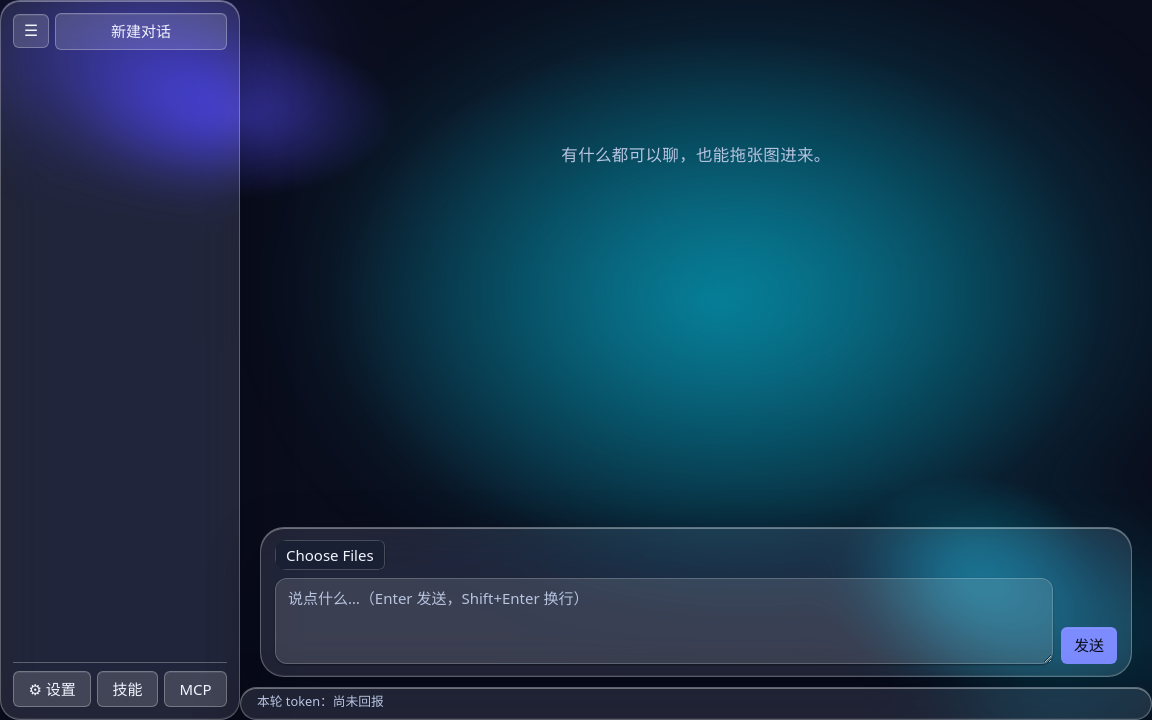
Test: App › prefills the composer when choosing a skill from the panel
The width and height of the screenshot is (1152, 720).
Click the button "技能".
click(128, 689)  # box [97,670,158,707]
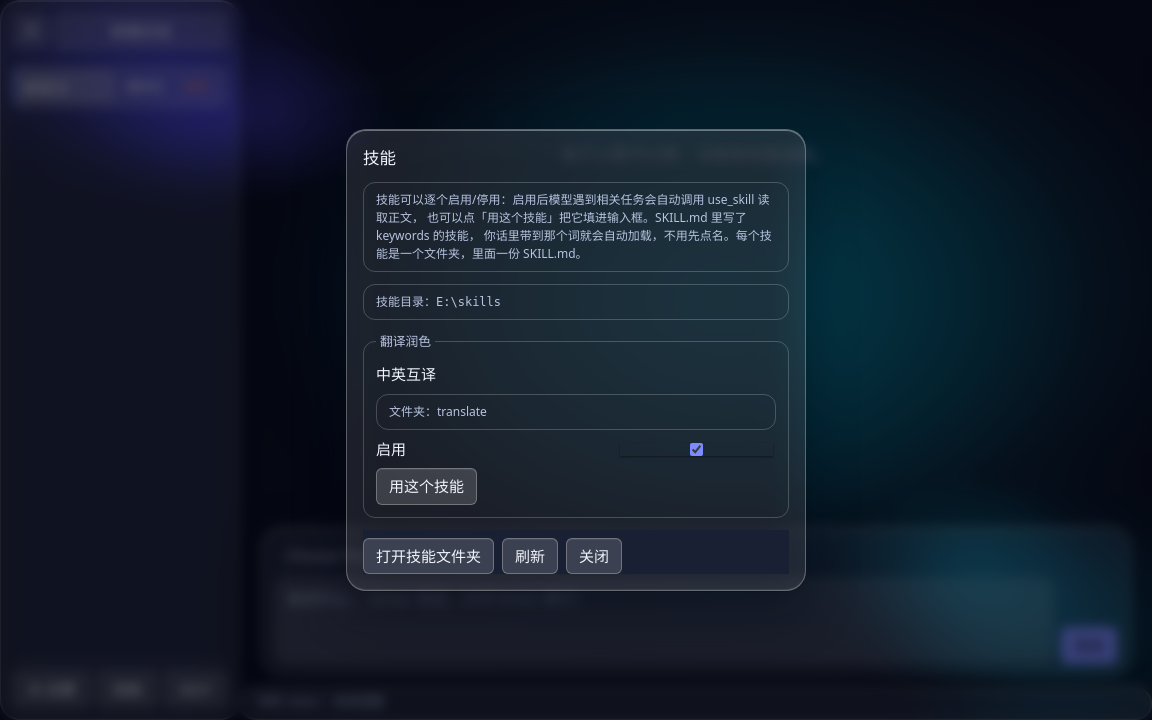
Click the button "用这个技能".
click(426, 487)  # box [376,468,477,505]
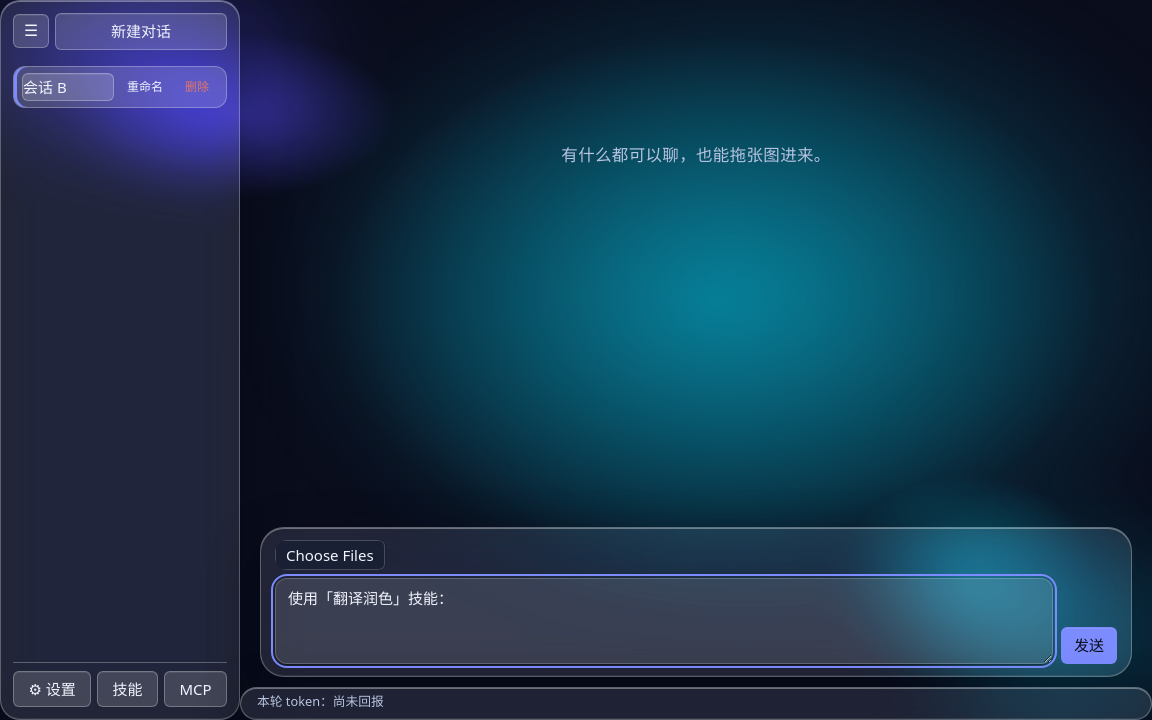
Now the text box named "输入消息" holds "使用「翻译润色」技能：", box [275,578,1053,664]
